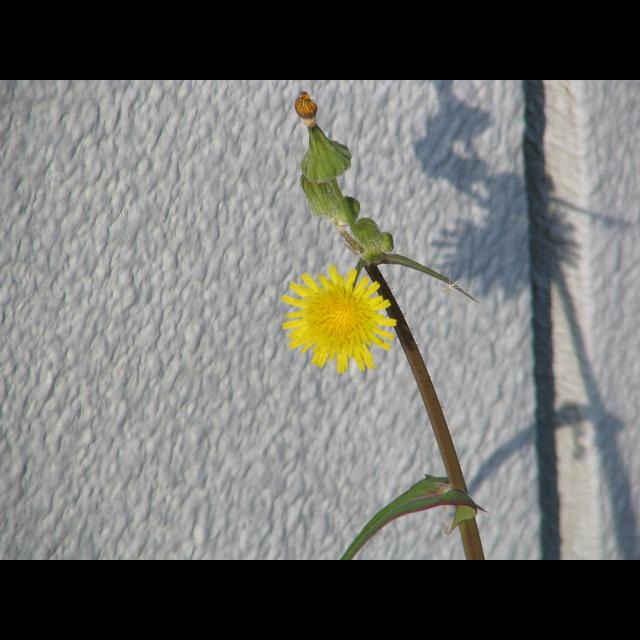Flower: (280, 258, 394, 380)
